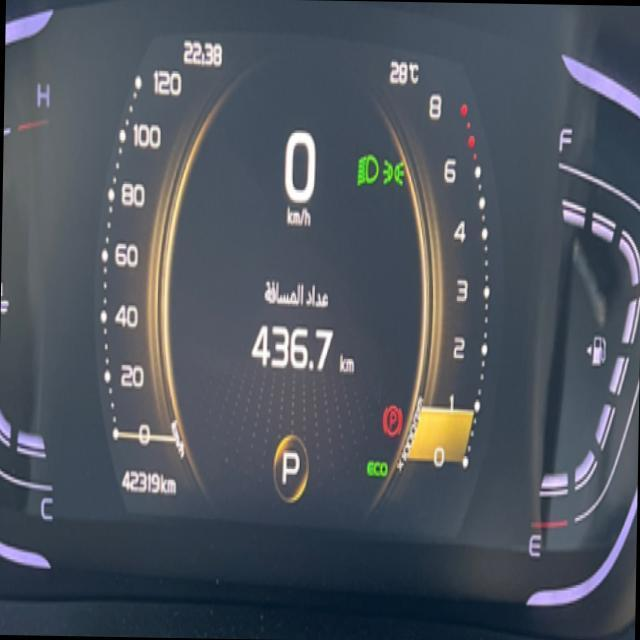Low beam: (352, 146, 380, 194)
